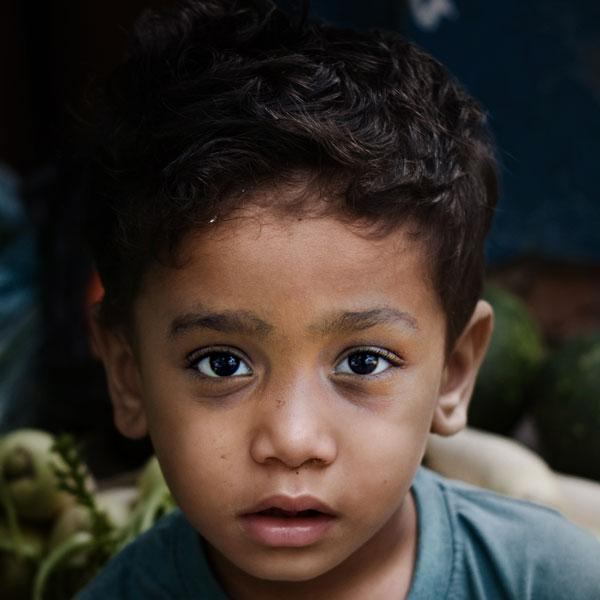Eyes: (322, 331, 408, 391), (175, 334, 259, 391)
